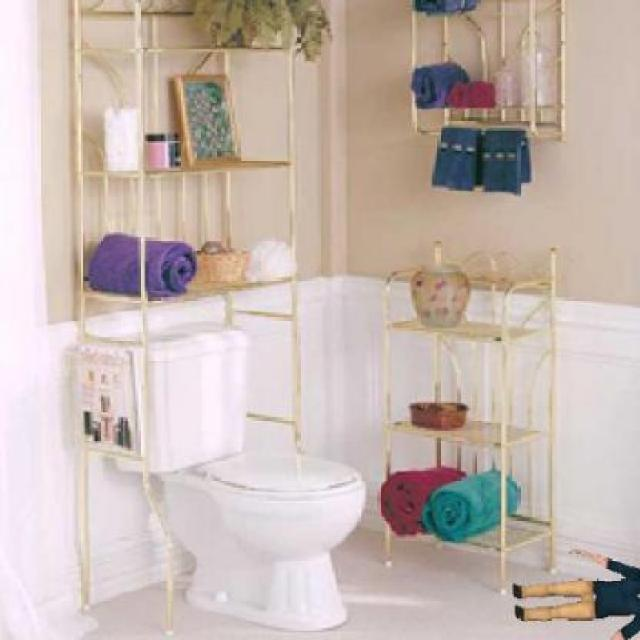Person: (510, 544, 639, 639)
